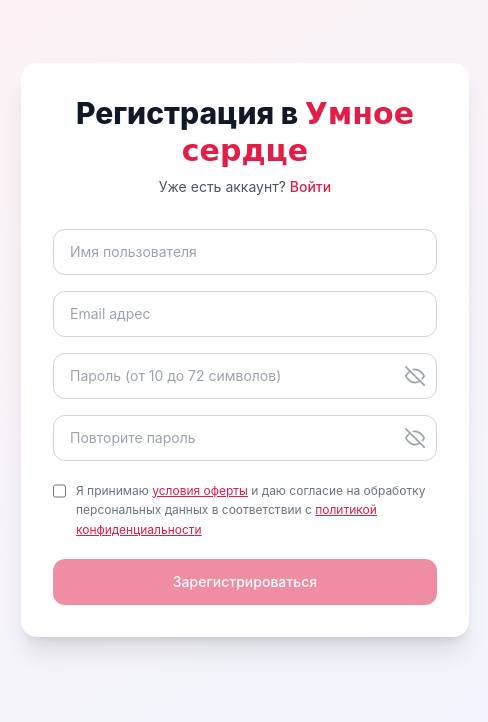
Register › shows rate limit error on 429
Type "anna" into the field with placeholder "Имя пользователя" at [245, 252], box [53, 229, 437, 275]
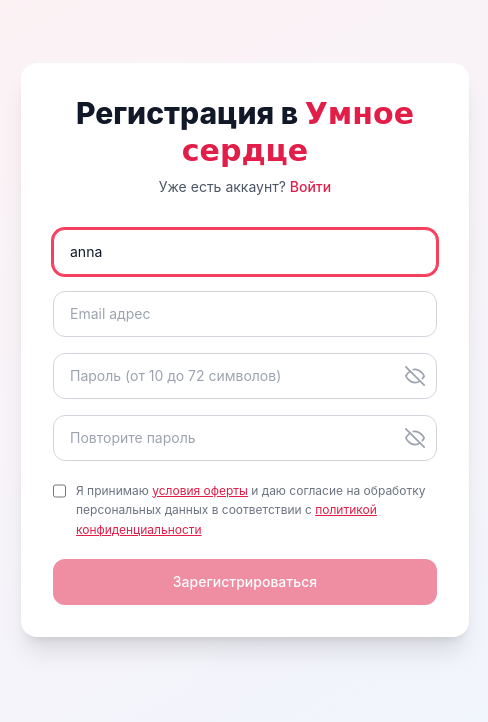
Type "anna@example.com" into the field with placeholder "Email адрес" at [245, 314], box [53, 291, 437, 337]
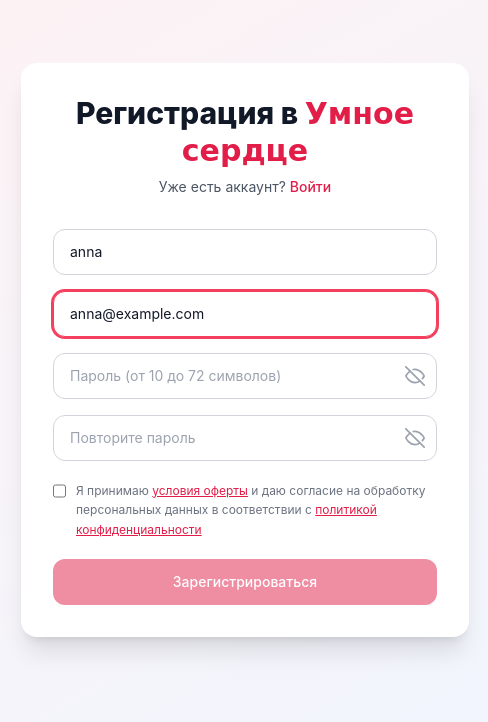
Type "Password123!" into the password field with placeholder "Пароль (от 10 до 72 символов)" at [245, 376], box [53, 353, 437, 399]
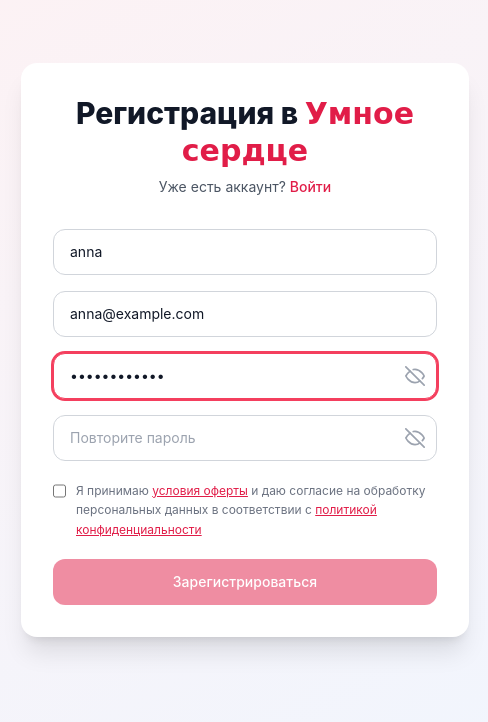
Type "Password123!" into the password field with placeholder "Повторите пароль" at [245, 438], box [53, 415, 437, 461]
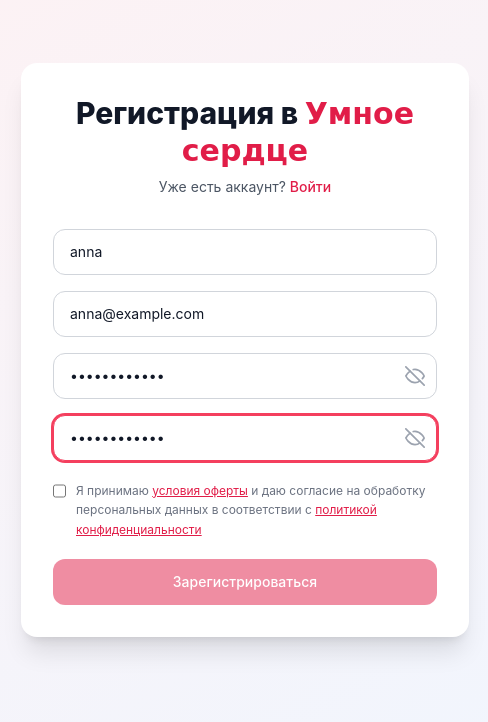
Click the checkbox at [60, 491], box [53, 483, 66, 499]
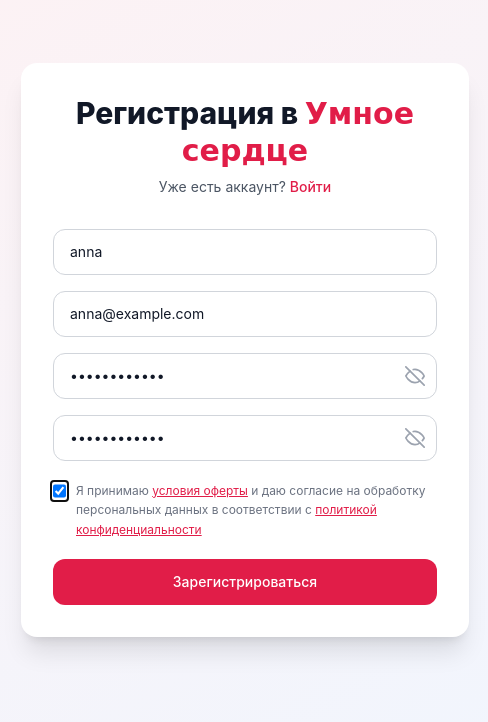
Click the button "Зарегистрироваться" at [245, 582], box [53, 559, 437, 605]
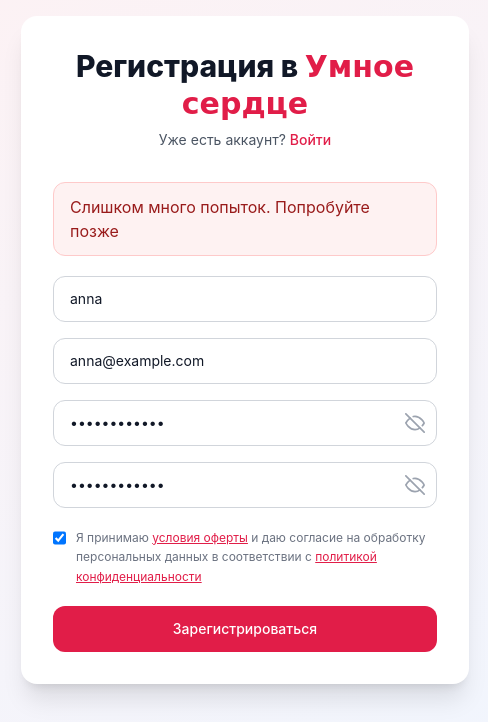
Result: the text "Слишком много попыток. Попробуйте позже" is shown at [53, 182, 437, 256]
